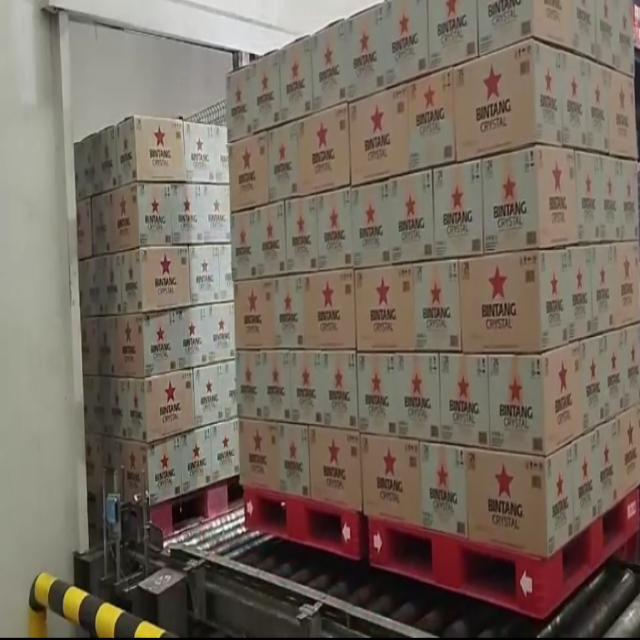pallet: (361, 0, 640, 625), (67, 104, 255, 548), (225, 3, 371, 574)
